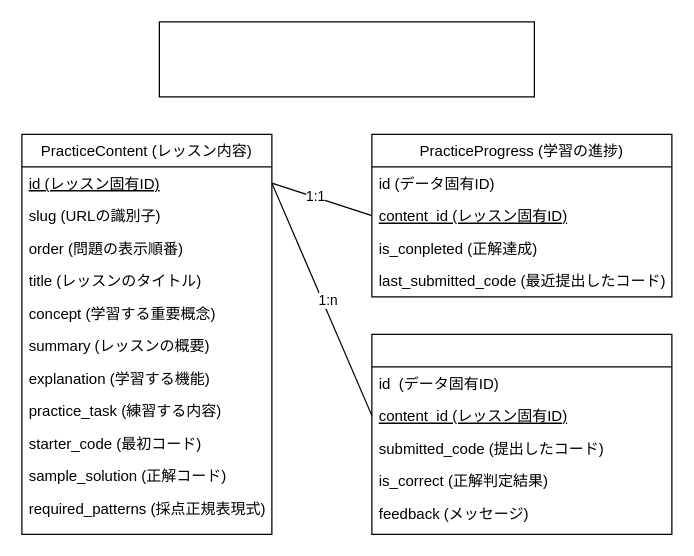
The diagram is 694 pixels wide and 556 high, and some of its shapes have lost their labels. The box of each missing label's shape, as (x1, y1, x2, y2) in pixels:
PracticeSubmission (コード提出記録): (371, 333, 672, 534)
データベース構成図: (158, 21, 534, 97)
